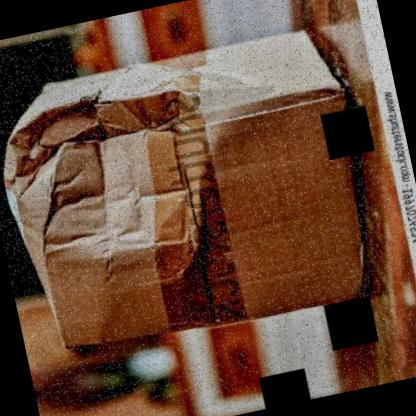box: (0, 15, 389, 369)
